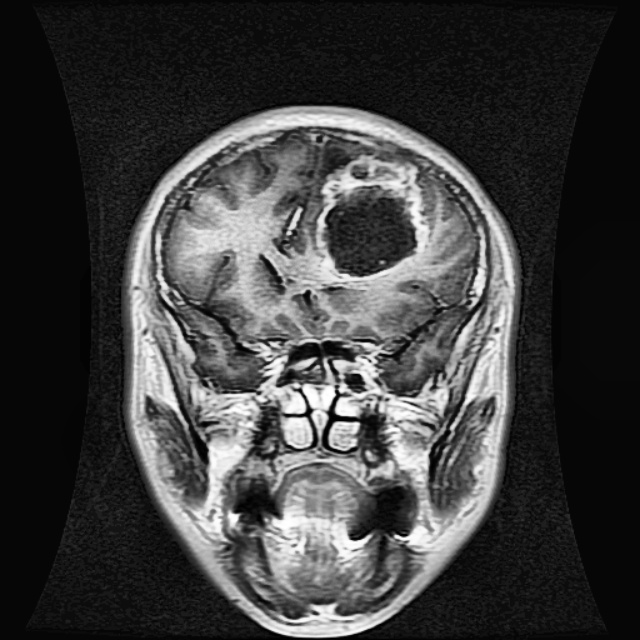Meningioma: (312, 149, 432, 282)
